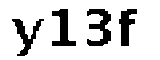1: (46, 7, 78, 49)
3: (83, 8, 114, 50)
f: (118, 6, 142, 51)
y: (11, 14, 43, 56)
